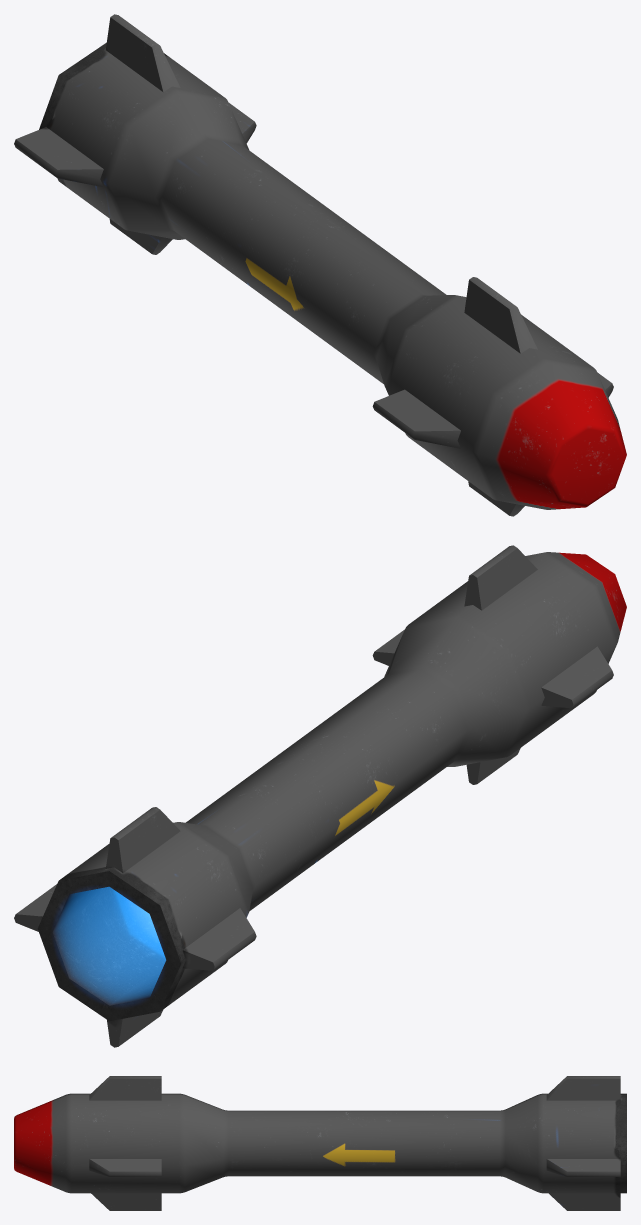
File: SM_BatteryRocket.fbx
3 views of the same model, one above another, from view 1: azimuth 30°, elevation 25°; view 2: azimuth 150°, elevation 25°; view 3: azimuth 270°, elevation 25° (orthographic). The views are drawn at different scales.
Parts seen in each view (by area): view 1: SM_Rocket; view 2: SM_Rocket; view 3: SM_Rocket.
Part boxes in pixels (x1,y1,x2,y2): SM_Rocket: (14, 14, 626, 516); SM_Rocket: (14, 545, 626, 1047); SM_Rocket: (14, 1076, 626, 1210).
Bounding box in the file's own units: 8.36 × 8.36 × 34.53.
